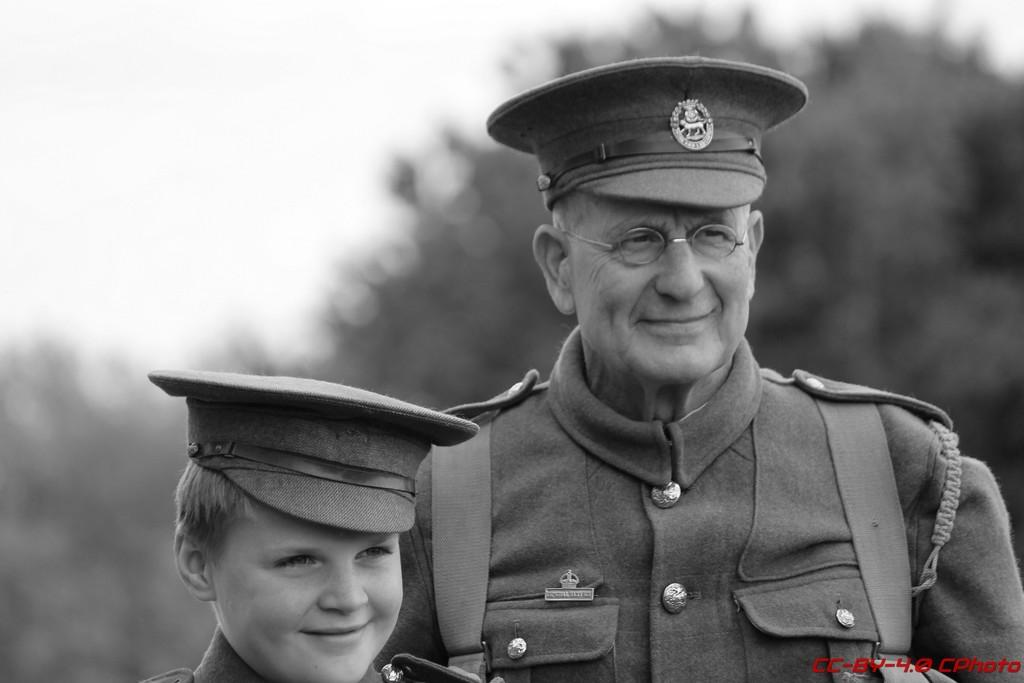Hat: (148, 370, 480, 537), (483, 54, 807, 208)
